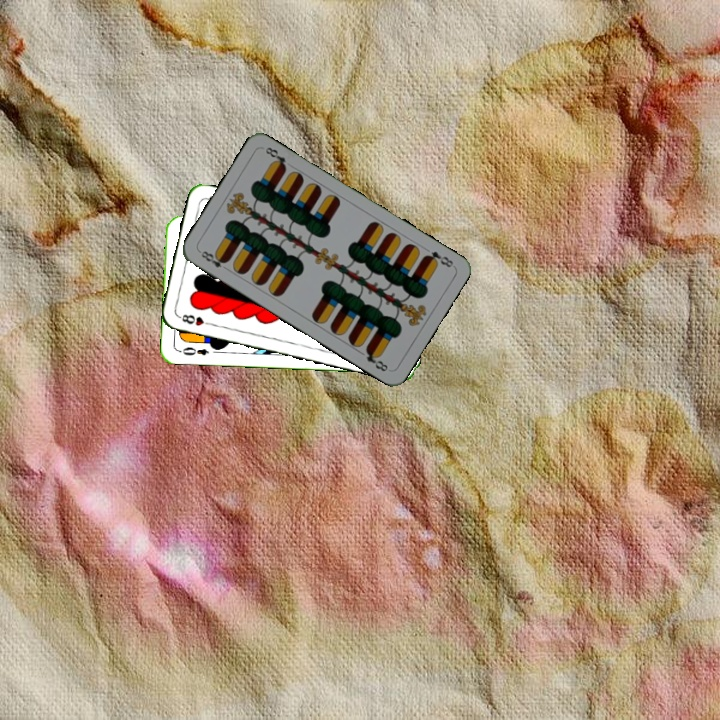E8: (195, 247, 231, 274), (420, 247, 456, 270)
EO: (175, 343, 211, 358)
H8: (175, 310, 215, 328)
